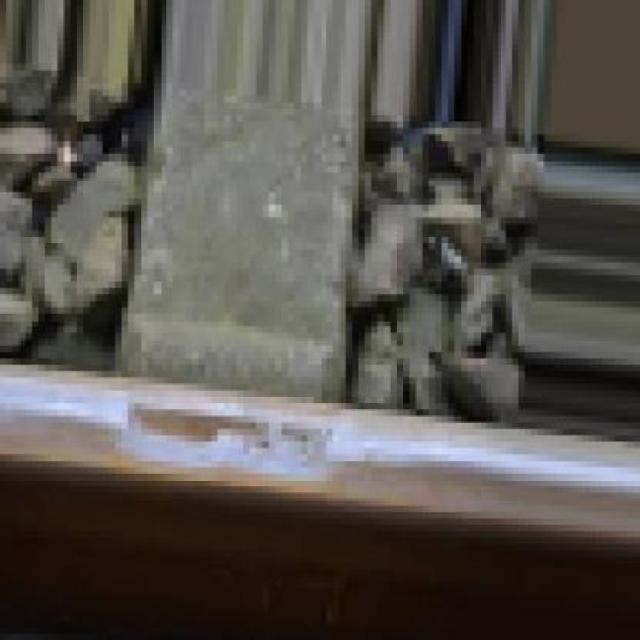defective: (83, 328, 491, 546)
